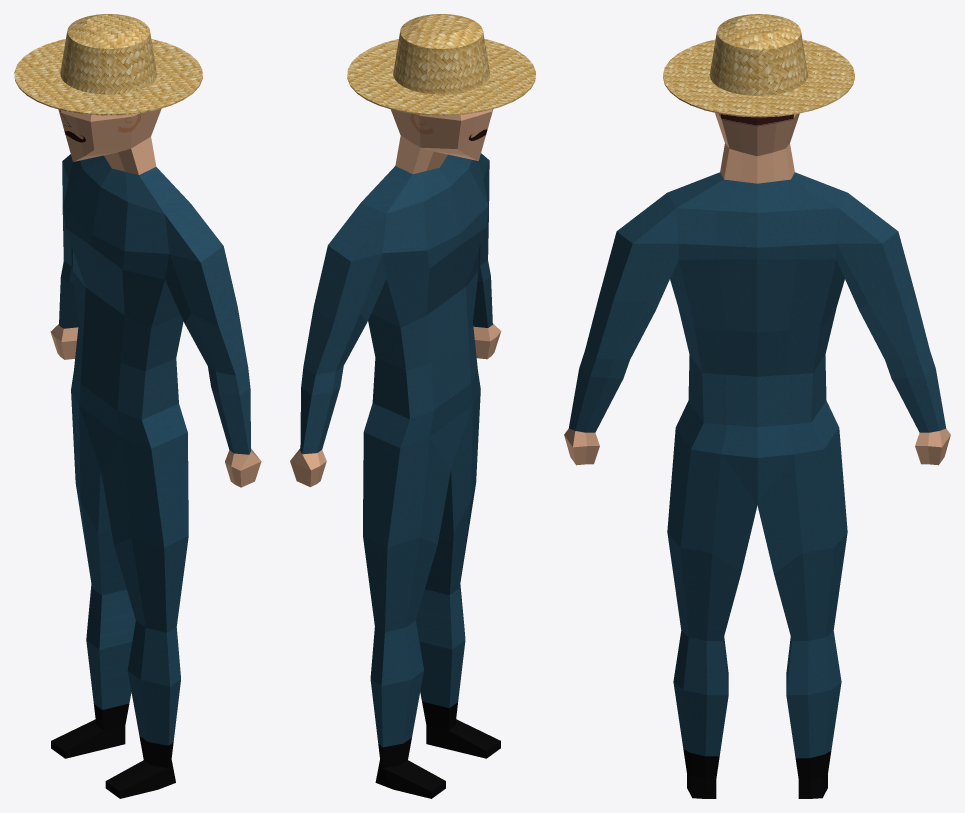
File: ColonoM.fbx
3 views of the same model, side by side, from view 1: azimuth 30°, elevation 25°; view 2: azimuth 150°, elevation 25°; view 3: azimuth 270°, elevation 25° (orthographic).
Parts seen in each view (by area): view 1: colono, chapeuDePalha; view 2: colono, chapeuDePalha; view 3: colono, chapeuDePalha.
Part boxes in pixels (bbox=[...]): colono: bbox=[50, 108, 261, 798]; chapeuDePalha: bbox=[14, 14, 202, 115]; colono: bbox=[290, 109, 501, 798]; chapeuDePalha: bbox=[347, 14, 535, 115]; colono: bbox=[564, 113, 950, 798]; chapeuDePalha: bbox=[663, 14, 854, 117].
Bounding box in the file's own units: 92.04 × 399 × 185.
